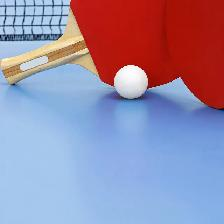WhiteBall: (113, 64, 147, 99)
